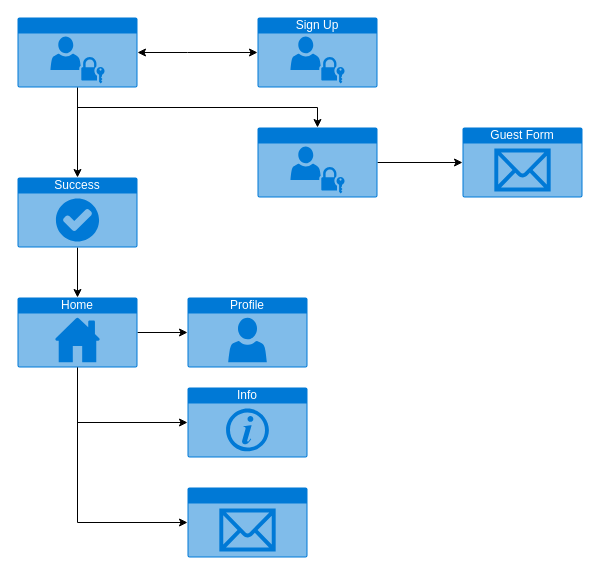
Some shapes in this 599 by 574 pixel diagram are drawn without their labels. Each missing label, with the centre of its shape:
911 Form: (x=247, y=522)
Guest: (x=317, y=162)
Login: (x=77, y=52)
